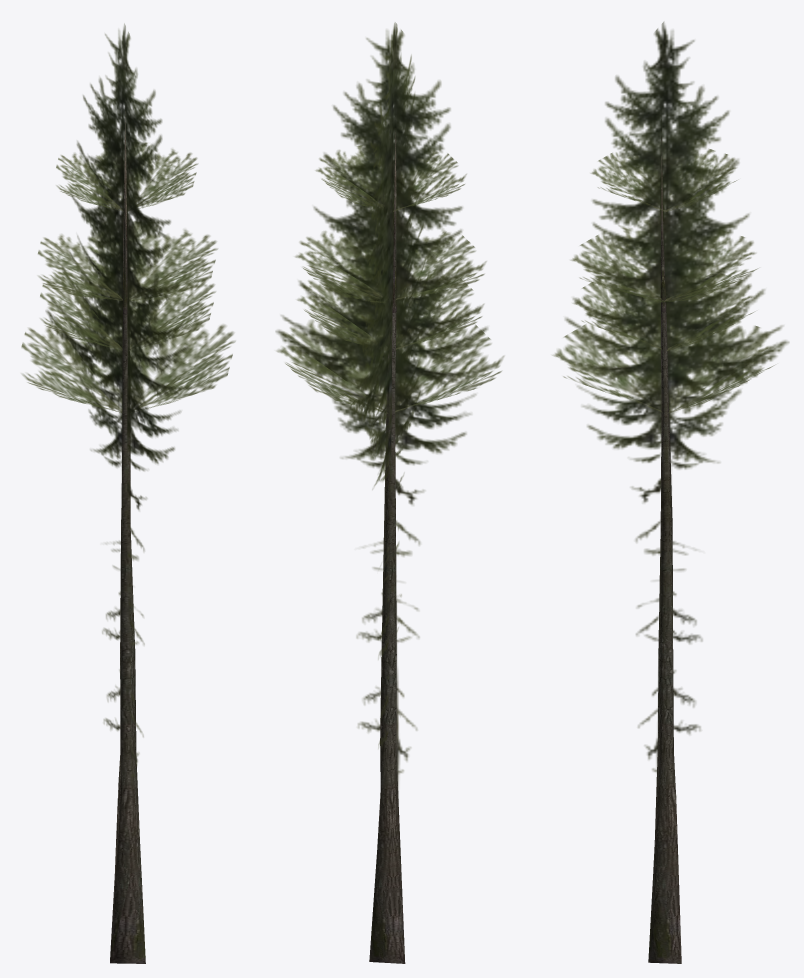
The model's file is Oak_038.gltf.
The picture shows the model from 3 angles, left to right: view 1: azimuth 30°, elevation 25°; view 2: azimuth 150°, elevation 25°; view 3: azimuth 270°, elevation 25°; orthographic projection.
Visible parts, largest first — view 1: Oak_038; view 2: Oak_038; view 3: Oak_038.
Boxes of the visible parts, bbox=[...] form: Oak_038: bbox=[21, 23, 235, 963]; Oak_038: bbox=[275, 22, 504, 963]; Oak_038: bbox=[552, 22, 789, 963].
Bounding box in the file's own units: 6.88 × 28.95 × 6.88.
Materials: 2 (2 with a texture image).
